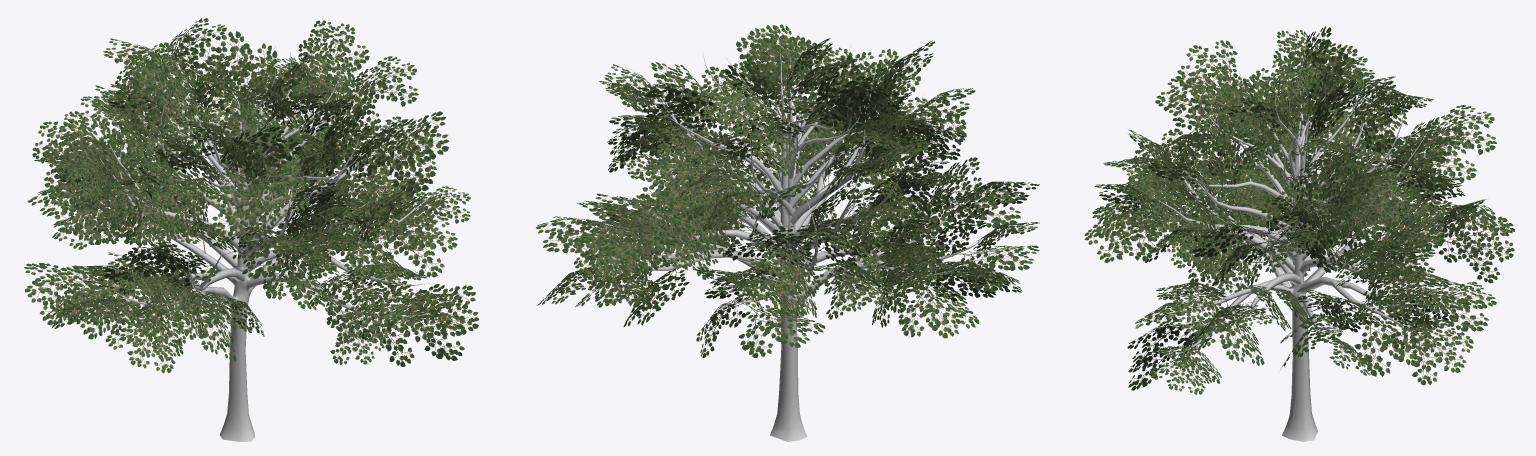
Rendered from Tree2.fbx.
3 views of the same model, side by side, from view 1: azimuth 30°, elevation 25°; view 2: azimuth 150°, elevation 25°; view 3: azimuth 270°, elevation 25° (orthographic). The views are drawn at different scales.
Visible parts, largest first — view 1: medium_size_tree_branches_Circle.003; view 2: medium_size_tree_branches_Circle.003; view 3: medium_size_tree_branches_Circle.003.
Boxes of the visible parts, x1,y1,x2,y2 form: medium_size_tree_branches_Circle.003: [24, 18, 479, 441]; medium_size_tree_branches_Circle.003: [536, 24, 1039, 441]; medium_size_tree_branches_Circle.003: [1084, 26, 1514, 441].
Bounding box in the file's own units: 716 × 613 × 660.
